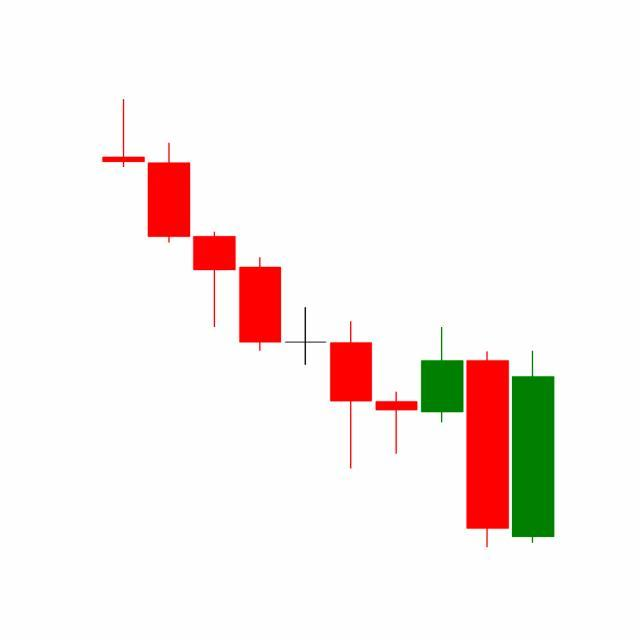Hikkake Pattern: (283, 303, 512, 548)
